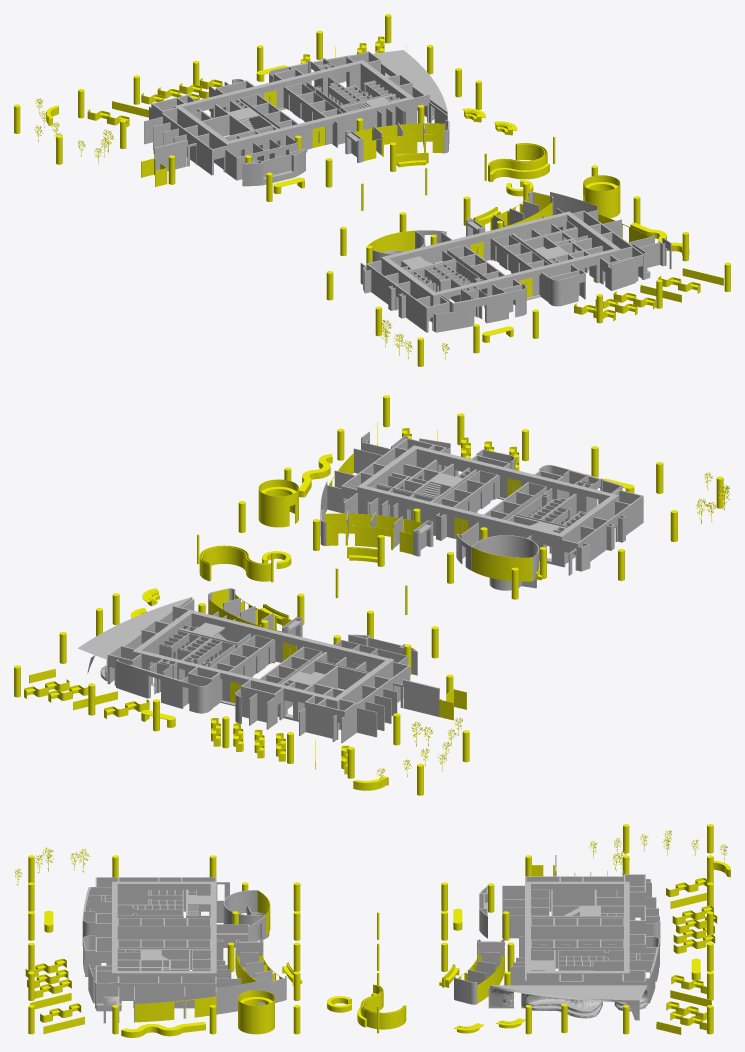
File: sm_hana_building_13f_in.glb
3 renders of one model, top to bottom at view 1: azimuth 30°, elevation 25°; view 2: azimuth 150°, elevation 25°; view 3: azimuth 270°, elevation 25°, orthographic. The views are drawn at different scales.
Visible parts, largest first — view 1: sm_hana_building_13f_in; view 2: sm_hana_building_13f_in; view 3: sm_hana_building_13f_in.
Part boxes in pixels (x1,y1,x2,y2): sm_hana_building_13f_in: [14, 14, 730, 366]; sm_hana_building_13f_in: [14, 395, 729, 795]; sm_hana_building_13f_in: [15, 824, 730, 1037].
Size of the model in its own units: 60.17 by 5.87 by 97.18.
6 materials, 5 textured.
